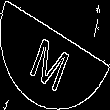M_NE: (31, 22, 79, 88)
